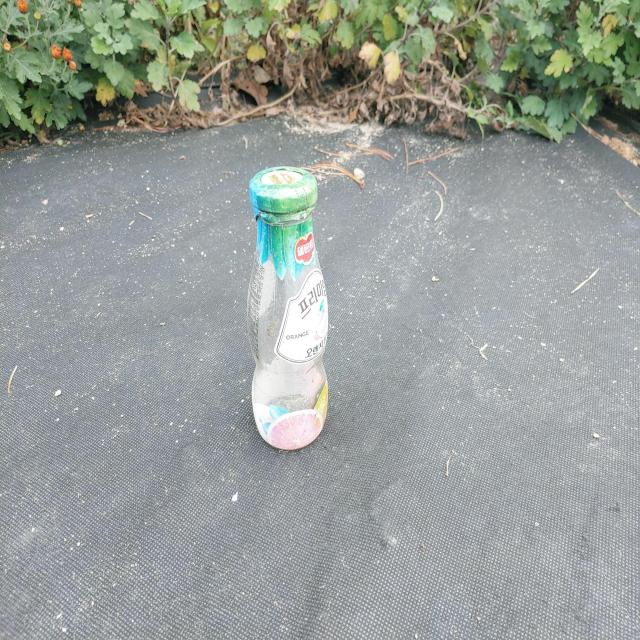glass: (248, 166, 328, 450)
